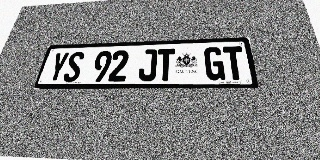2: (108, 50, 129, 82)
9: (91, 51, 113, 82)
G: (204, 47, 225, 80)
J: (138, 49, 157, 81)
S: (62, 52, 85, 82)
T: (223, 46, 246, 80), (156, 48, 175, 81)
Y: (46, 52, 70, 82)
